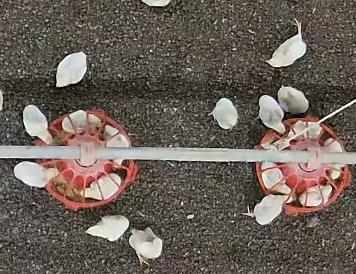chick: (265, 19, 308, 69), (242, 192, 292, 225), (12, 161, 58, 190), (128, 228, 164, 265), (22, 104, 54, 144), (85, 213, 128, 242), (55, 51, 88, 88), (80, 173, 121, 200), (256, 95, 285, 133), (261, 161, 291, 194), (209, 96, 237, 130), (105, 124, 127, 167), (62, 110, 102, 132), (324, 139, 346, 179), (278, 86, 308, 115), (301, 185, 333, 207), (289, 120, 322, 141)
rice: (30, 109, 138, 211), (254, 117, 351, 215)
